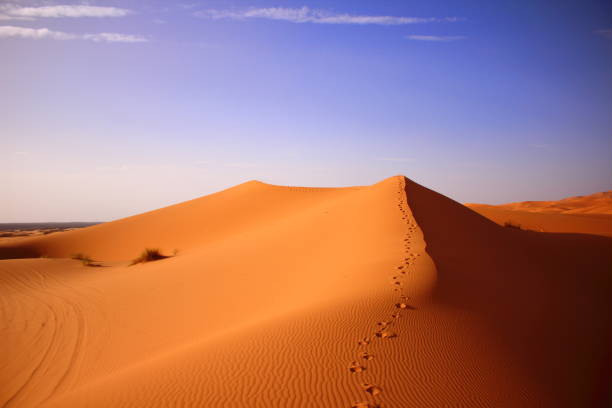animal_footprint: (350, 180, 416, 372), (362, 383, 381, 395), (375, 329, 396, 338), (349, 361, 366, 372), (351, 401, 380, 407), (395, 302, 416, 310), (376, 321, 391, 328), (360, 352, 373, 360), (358, 337, 370, 345), (391, 312, 400, 318), (400, 295, 410, 300), (404, 258, 410, 266), (397, 266, 404, 270), (393, 287, 400, 291), (392, 276, 399, 279), (394, 281, 400, 284), (404, 238, 409, 241), (404, 257, 409, 260), (401, 271, 405, 273)
